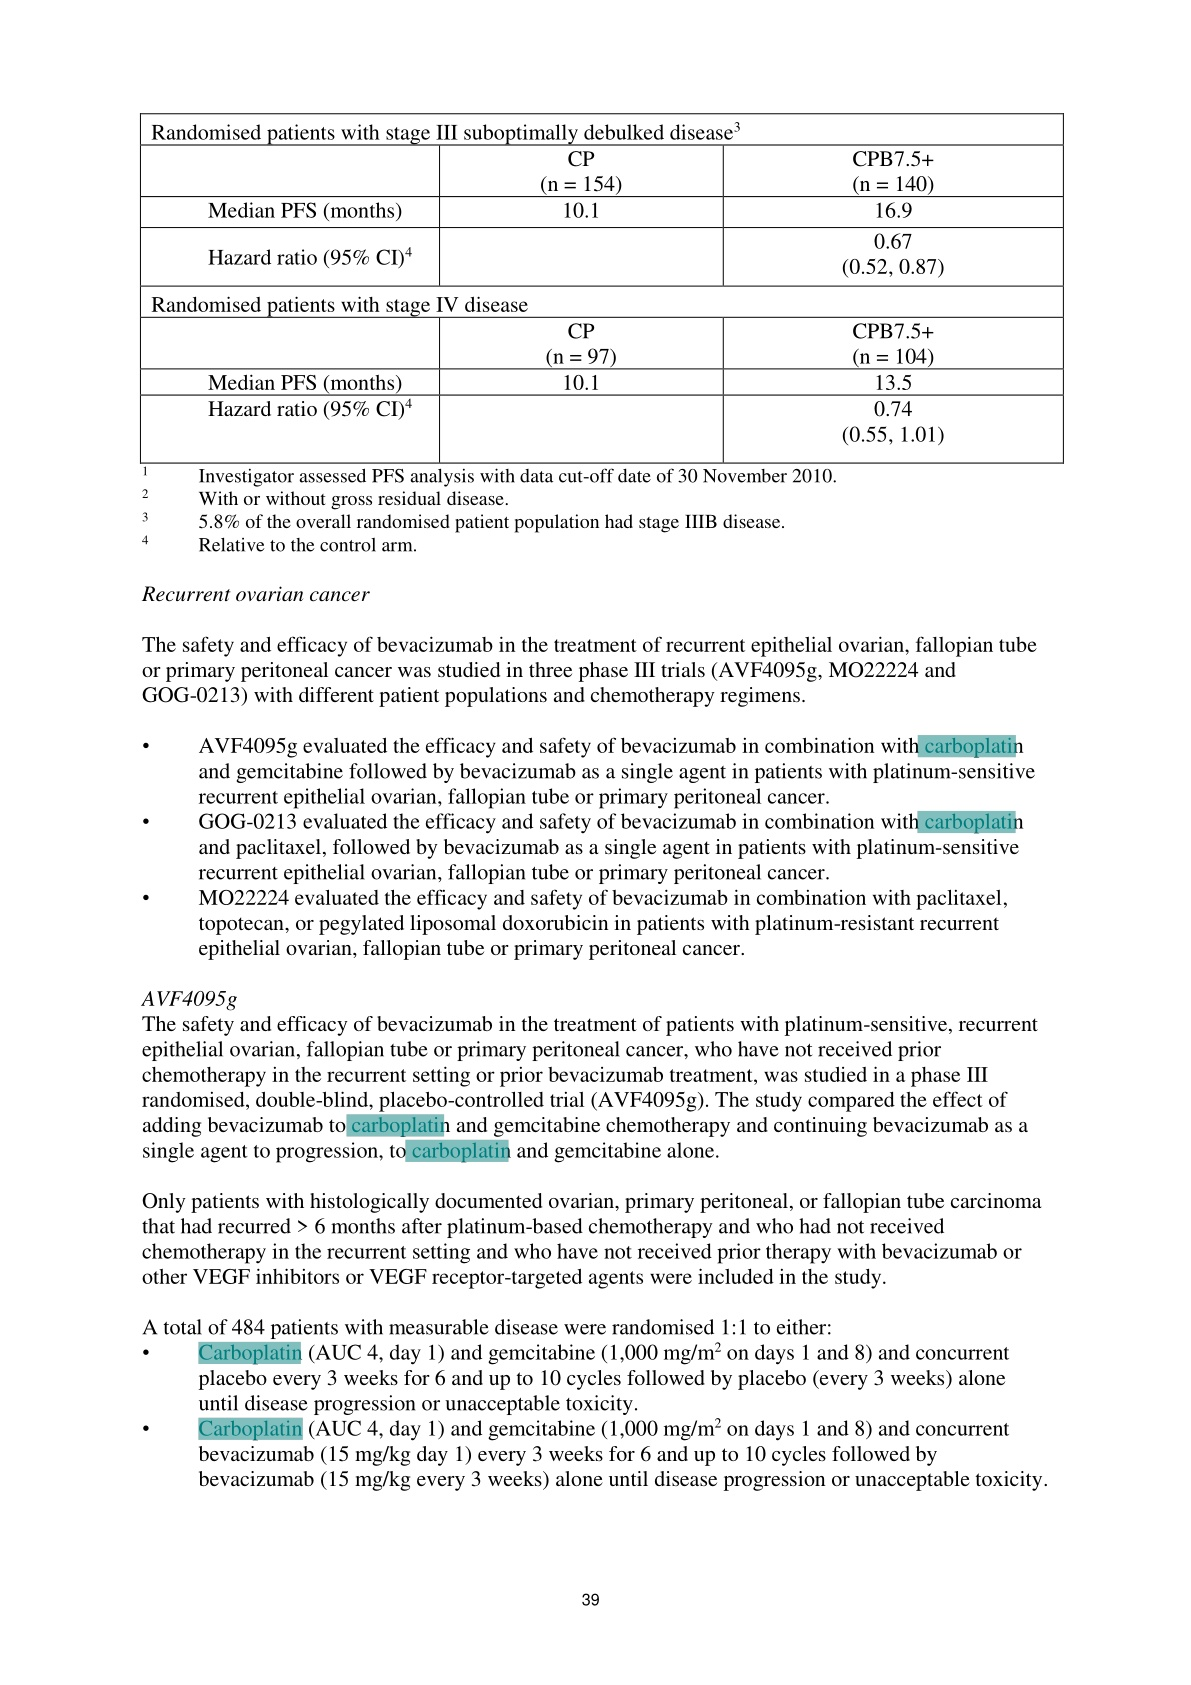merged_cells: (139, 112, 1063, 464)
